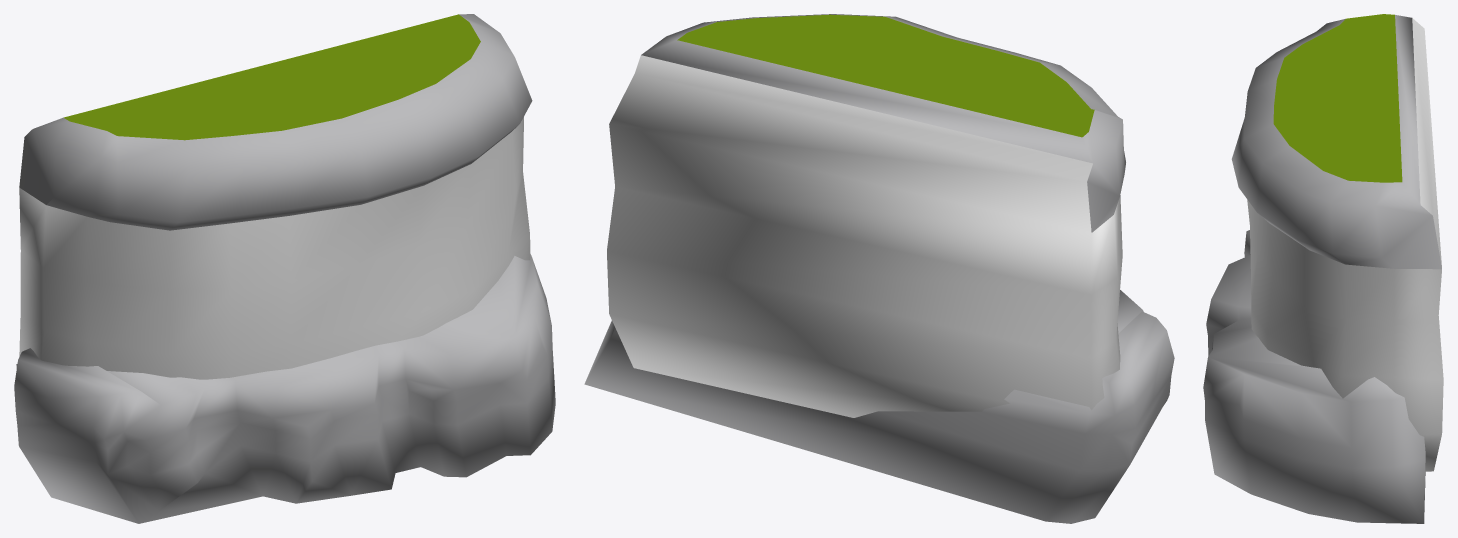
The model's file is CliffRoundSmoothShaded.fbx.
The picture shows the model from 3 angles, left to right: view 1: azimuth 30°, elevation 25°; view 2: azimuth 150°, elevation 25°; view 3: azimuth 270°, elevation 25°; orthographic projection. The views are drawn at different scales.
Visible parts, largest first — view 1: Plane.019, Plane.022, Plane.020, Plane.021; view 2: Plane.022, Plane.019, Plane.021, Plane.020; view 3: Plane.019, Plane.022, Plane.020, Plane.021.
Part boxes in pixels (<box>): Plane.019: <box>14,254,555,523</box>; Plane.022: <box>19,117,530,379</box>; Plane.020: <box>19,14,532,230</box>; Plane.021: <box>63,14,480,140</box>; Plane.022: <box>607,55,1122,422</box>; Plane.019: <box>584,290,1174,523</box>; Plane.021: <box>677,14,1094,137</box>; Plane.020: <box>641,14,1125,232</box>; Plane.019: <box>1203,230,1425,523</box>; Plane.022: <box>1247,18,1443,471</box>; Plane.020: <box>1231,15,1441,269</box>; Plane.021: <box>1273,14,1402,182</box>.
Size of the model in its own units: 3493 by 2424 by 1575.
